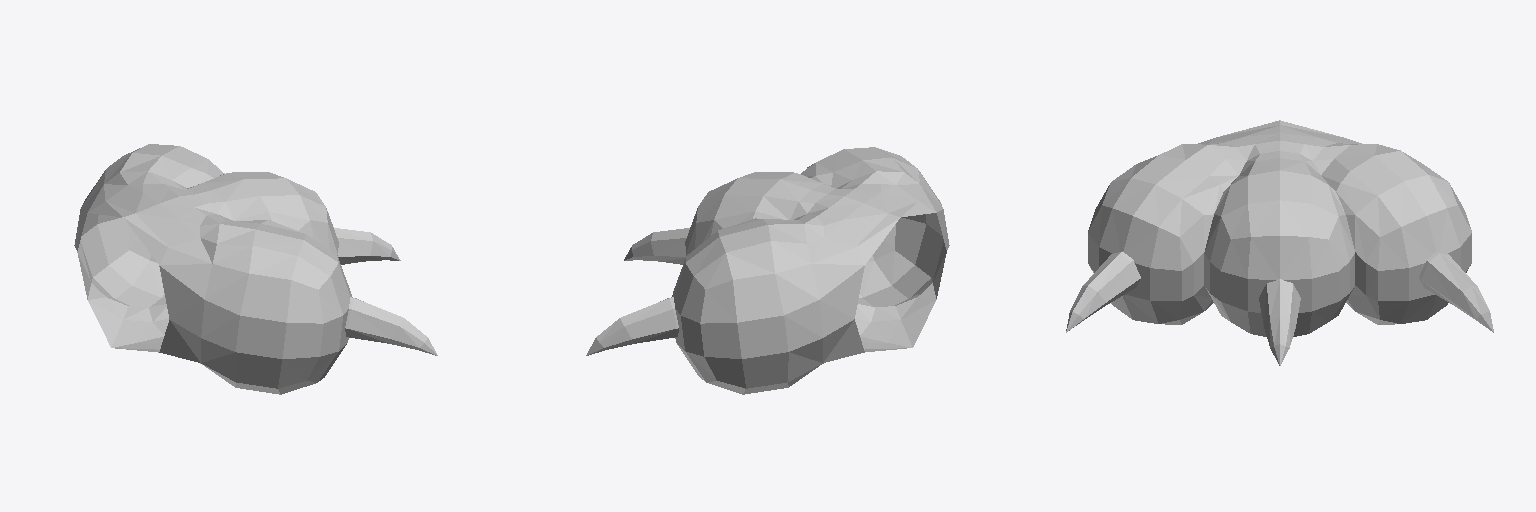
The model's file is hand_R.obj.
The picture shows the model from 3 angles: view 1: azimuth 30°, elevation 25°; view 2: azimuth 150°, elevation 25°; view 3: azimuth 270°, elevation 25°; orthographic projection.
Visible parts, largest first — view 1: Meowth; view 2: Meowth; view 3: Meowth.
Part boxes in pixels (x1,y1,x2,y2): Meowth: (74,144,437,394); Meowth: (586,147,949,394); Meowth: (1066,120,1493,365).
Size of the model in its own units: 6.77 by 3.56 by 8.67.